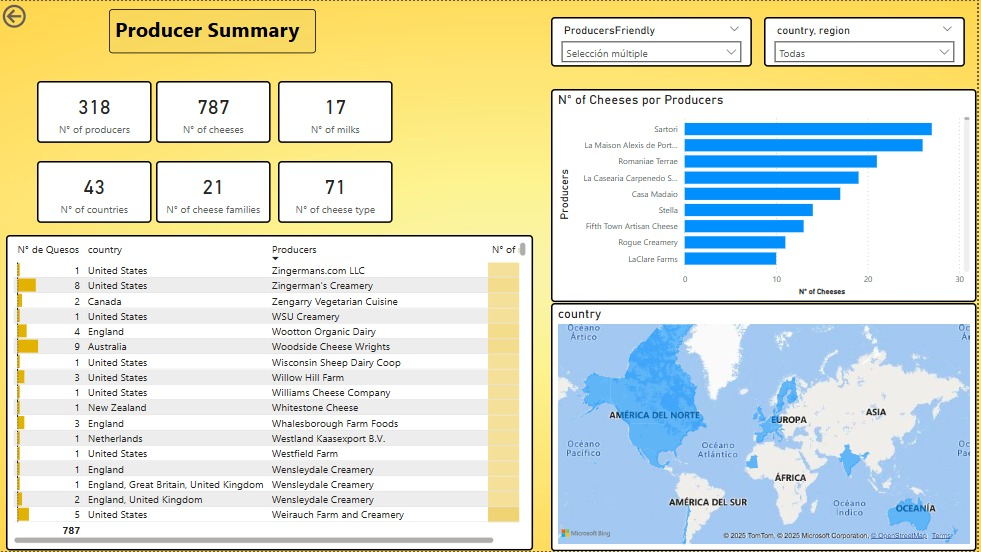

What the dashboard file says about the page in this screenshot:
{"tool":"powerbi","page":{"name":"Producers","canvas":[1280,720],"ordinal":1},"visuals":[{"type":"tableEx","fields":{"Values":["cheese_details.url","cheese_details.country","cheese_details.ProducersFriendly","cheese_details.milk"]},"box":[9.6,306.9,689.5,412.9],"z":0},{"type":"actionButton","box":[0,0,100,40],"z":1000},{"type":"slicer","fields":{"Values":["cheese_details.ProducersFriendly"]},"box":[722.6,20.6,262.9,64.7],"z":2000},{"type":"barChart","fields":{"Category":["cheese_details.ProducersFriendly"],"Y":["cheese_details.url"]},"box":[722.6,115.6,557.4,279.4],"z":3000},{"type":"card","fields":{"Values":["cheese_details.url"]},"box":[205.1,104.6,150,81.2],"z":4000},{"type":"card","fields":{"Values":["cheese_details.ProducersFriendly"]},"box":[49.5,104.6,150,81.2],"z":5000},{"type":"card","fields":{"Values":["cheese_details.milk"]},"box":[364.7,104.6,150,81.2],"z":6000},{"type":"card","fields":{"Values":["cheese_details.country"]},"box":[49.5,209.2,150,81.2],"z":7000},{"type":"card","fields":{"Values":["cheese_details.family"]},"box":[205.1,209.2,150,81.2],"z":8000},{"type":"card","fields":{"Values":["cheese_details.type"]},"box":[364.7,209.2,150,81.2],"z":9000},{"type":"slicer","fields":{"Values":["cheese_details.country","cheese_details.region"]},"box":[1002,20.6,262.9,64.7],"z":10000},{"type":"filledMap","fields":{"Category":["cheese_details.country"]},"box":[722.6,395,557.4,324.8],"z":11000},{"type":"textbox","box":[144.5,11,271.1,57.8],"z":12000}]}

Visuals, with their boxes in screenshot pixels (x1, y1, x2, y2), scaled from the page's 1280x720 canvas onto the 981x552 screenshot:
tableEx - cheese_details.url x cheese_details.country: {"left": 7, "top": 235, "right": 536, "bottom": 551}
actionButton: {"left": 0, "top": 0, "right": 77, "bottom": 31}
slicer - cheese_details.ProducersFriendly: {"left": 554, "top": 16, "right": 755, "bottom": 65}
barChart - cheese_details.ProducersFriendly x cheese_details.url: {"left": 554, "top": 89, "right": 980, "bottom": 303}
card - cheese_details.url: {"left": 157, "top": 80, "right": 272, "bottom": 142}
card - cheese_details.ProducersFriendly: {"left": 38, "top": 80, "right": 153, "bottom": 142}
card - cheese_details.milk: {"left": 280, "top": 80, "right": 394, "bottom": 142}
card - cheese_details.country: {"left": 38, "top": 160, "right": 153, "bottom": 223}
card - cheese_details.family: {"left": 157, "top": 160, "right": 272, "bottom": 223}
card - cheese_details.type: {"left": 280, "top": 160, "right": 394, "bottom": 223}
slicer - cheese_details.country x cheese_details.region: {"left": 768, "top": 16, "right": 969, "bottom": 65}
filledMap - cheese_details.country: {"left": 554, "top": 303, "right": 980, "bottom": 551}
textbox: {"left": 111, "top": 8, "right": 319, "bottom": 53}
